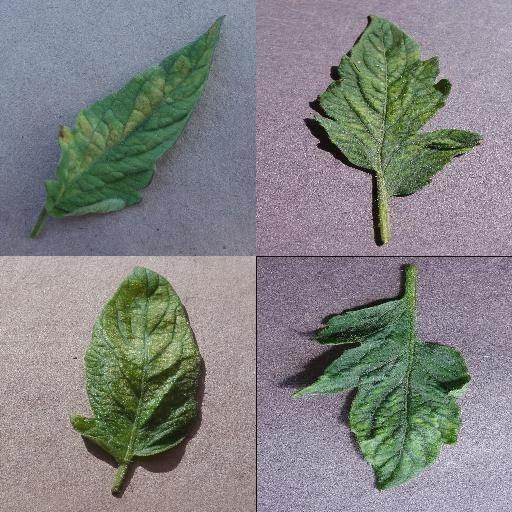Leaf Mold: (45, 13, 228, 221)
Mosaic Virus: (290, 296, 474, 494), (315, 12, 487, 196)
Spider Mites: (70, 267, 204, 459)
